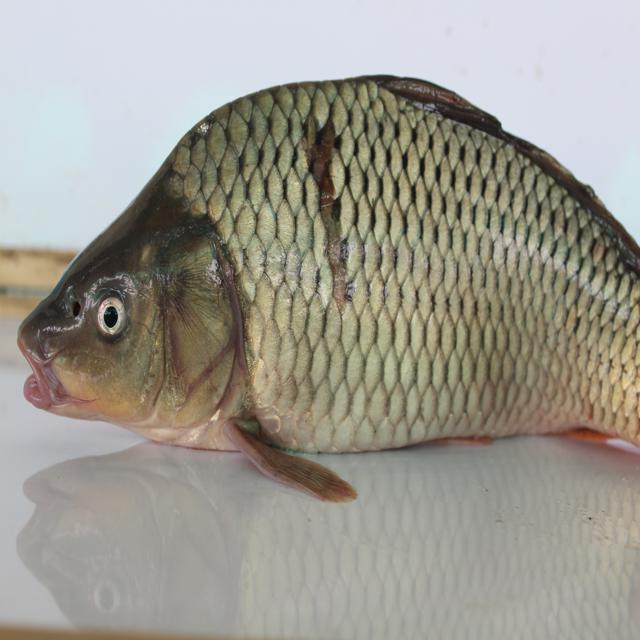CommonCarp: (18, 67, 640, 534)
